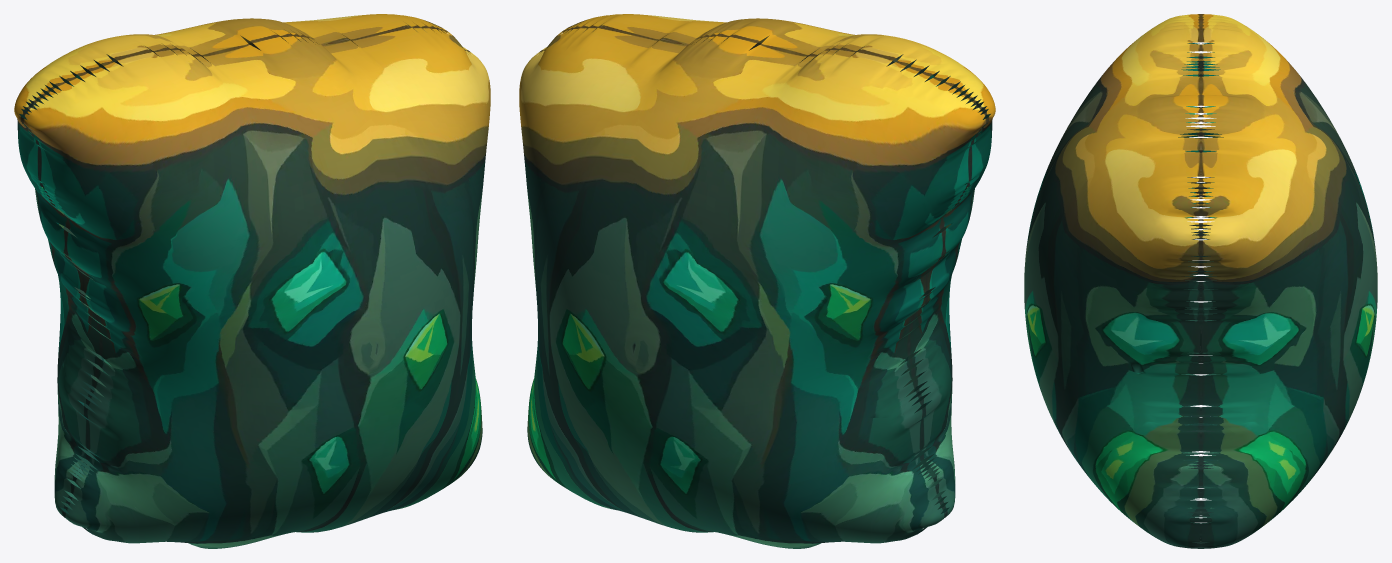
The model's file is crystal_cliff.glb.
3 renders of one model, left to right at view 1: azimuth 30°, elevation 25°; view 2: azimuth 150°, elevation 25°; view 3: azimuth 270°, elevation 25°, orthographic. The views are drawn at different scales.
Visible parts, largest first — view 1: crystal_cliff; view 2: crystal_cliff; view 3: crystal_cliff.
Boxes of the visible parts, x1,y1,x2,y2 form: crystal_cliff: (14, 14, 490, 548); crystal_cliff: (519, 14, 995, 548); crystal_cliff: (1024, 14, 1377, 548).
Bounding box in the file's own units: 0.9882 × 1.04 × 0.8231.
Materials: 1 (1 with a texture image).
